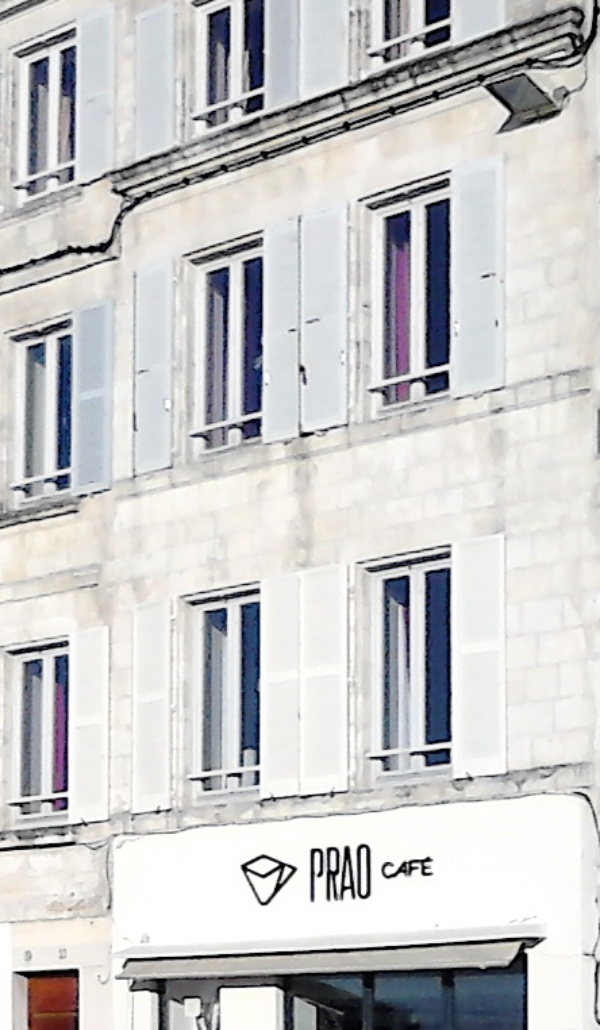text: (321, 841, 336, 903), (337, 841, 352, 903), (353, 841, 368, 903), (310, 841, 320, 903), (369, 841, 379, 903), (385, 856, 400, 882), (401, 856, 416, 882), (417, 856, 432, 882), (380, 856, 384, 882), (433, 856, 437, 882)
